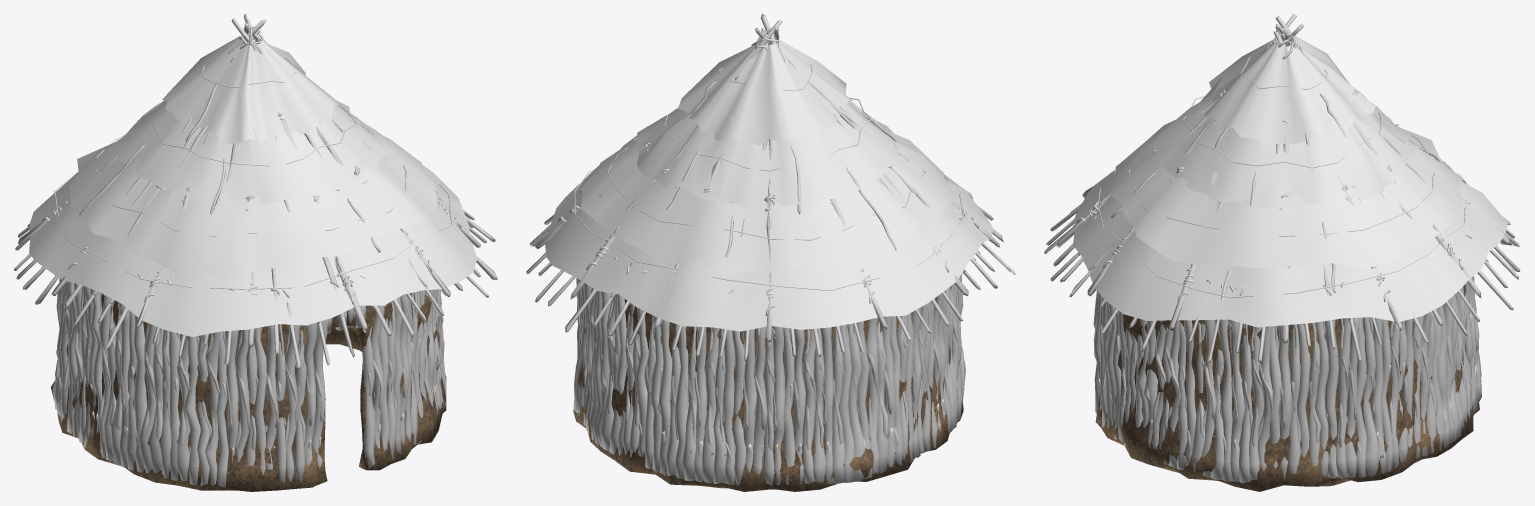
The model's file is midpoly_african_hut_004.fbx.
3 views of the same model, side by side, from view 1: azimuth 30°, elevation 25°; view 2: azimuth 150°, elevation 25°; view 3: azimuth 270°, elevation 25° (orthographic).
Parts seen in each view (by area): view 1: midpoly_african_hut_004; view 2: midpoly_african_hut_004; view 3: midpoly_african_hut_004.
Boxes of the visible parts, x1,y1,x2,y2 form: midpoly_african_hut_004: [14, 14, 497, 491]; midpoly_african_hut_004: [526, 14, 1015, 491]; midpoly_african_hut_004: [1044, 14, 1520, 491].
Bounding box in the file's own units: 387 × 351 × 388.
